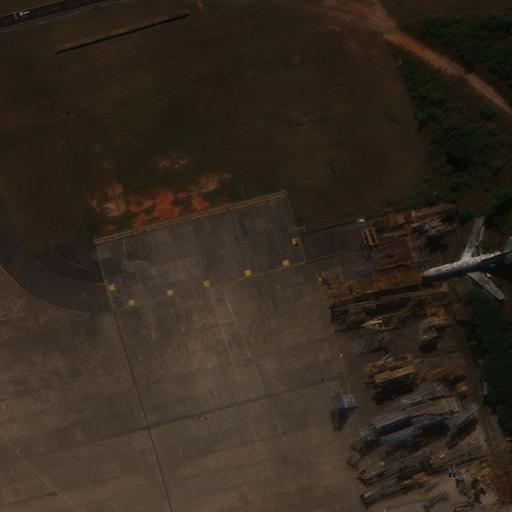Medium Civil Transport: (422, 219, 512, 299)
